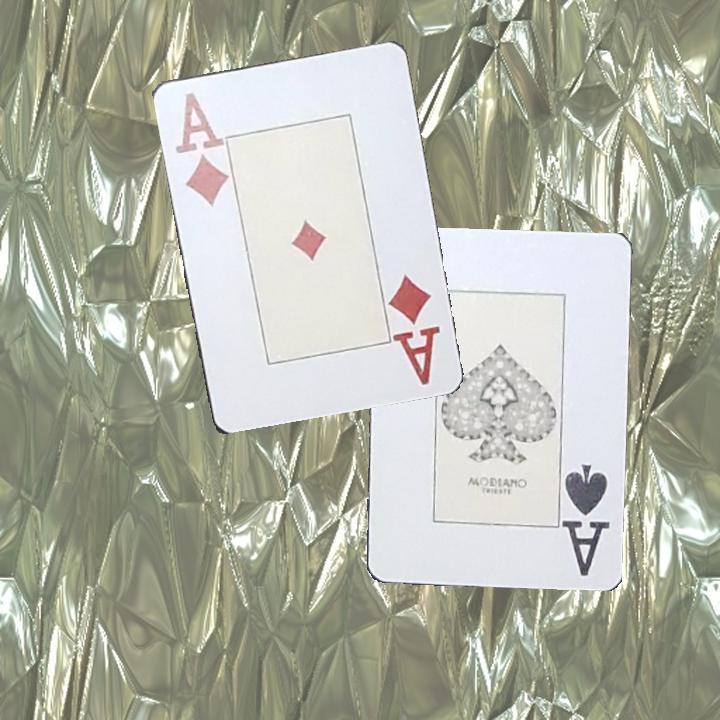Ad: (171, 88, 230, 209), (386, 270, 443, 388)
As: (560, 459, 613, 579)
